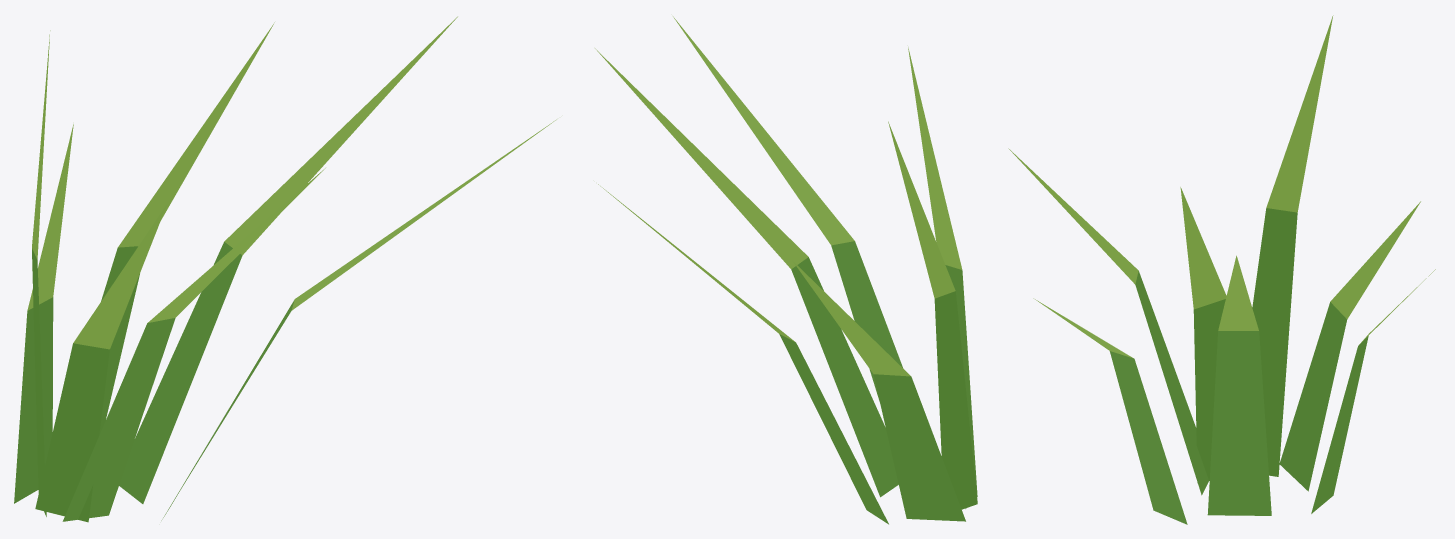
Rendered from grass_tuft_piegato.glb.
The picture shows the model from 3 angles, left to right: view 1: azimuth 30°, elevation 25°; view 2: azimuth 150°, elevation 25°; view 3: azimuth 270°, elevation 25°; orthographic projection. The views are drawn at different scales.
Parts seen in each view (by area): view 1: grass_tuft_piegato; view 2: grass_tuft_piegato; view 3: grass_tuft_piegato.
Part boxes in pixels (x1,y1,x2,y2): grass_tuft_piegato: (14,16,556,522); grass_tuft_piegato: (595,16,977,524); grass_tuft_piegato: (1008,15,1435,524).
Size of the model in its own units: 4.58 by 4.44 by 3.62.
